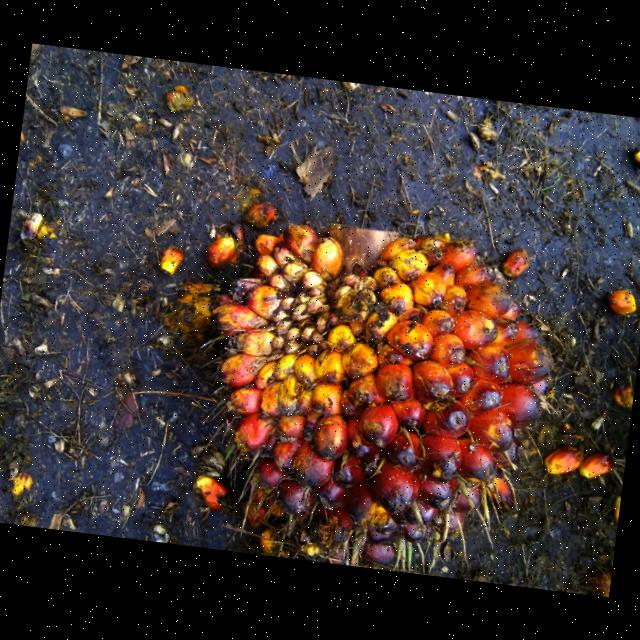Ripe: (209, 219, 557, 570)
